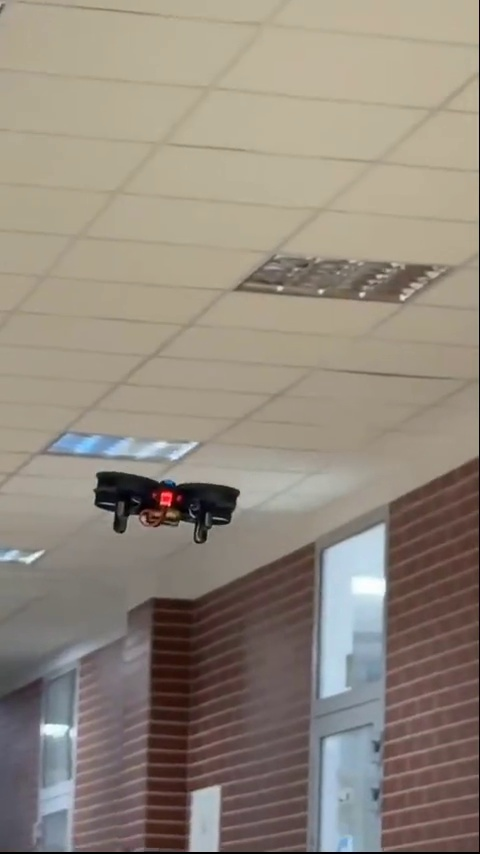drone: (92, 470, 242, 547)
